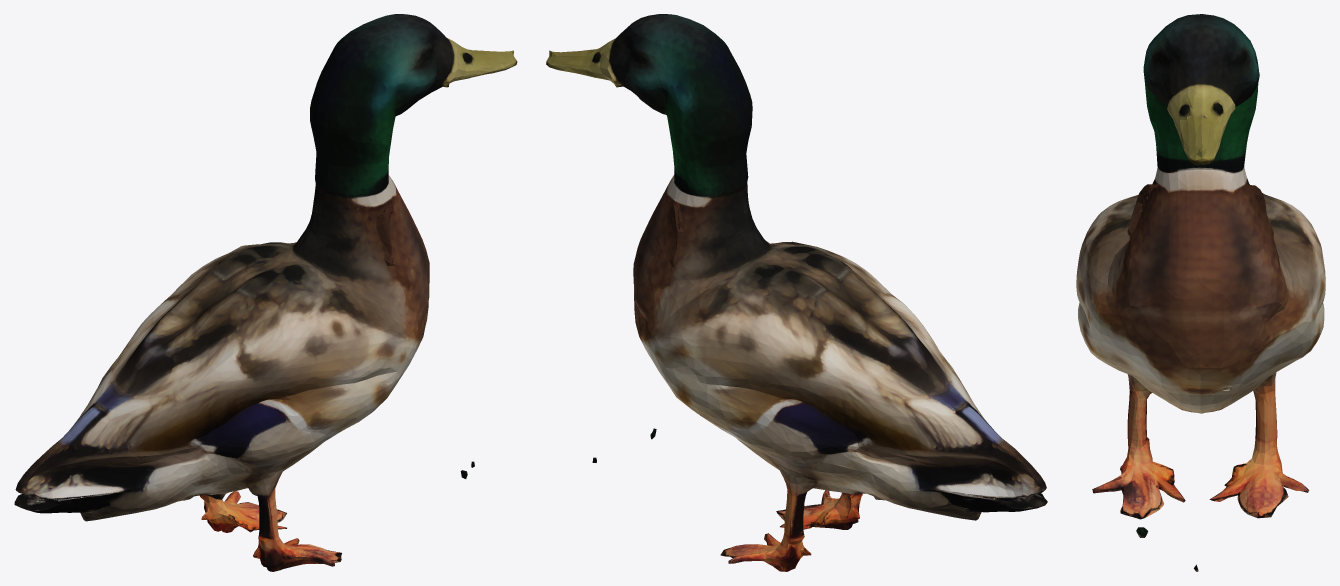
3 views of the same model, side by side, from view 1: azimuth 30°, elevation 25°; view 2: azimuth 150°, elevation 25°; view 3: azimuth 270°, elevation 25° (orthographic). The views are drawn at different scales.
Parts seen in each view (by area): view 1: world; view 2: world; view 3: world.
Boxes of the visible parts, box(x1,y1,x2,y2) form: world: box(14, 14, 517, 571); world: box(546, 14, 1047, 571); world: box(1076, 14, 1325, 571).
Size of the model in its own units: 0.9923 by 0.9454 by 0.3928.
Materials: 1 (1 with a texture image).
